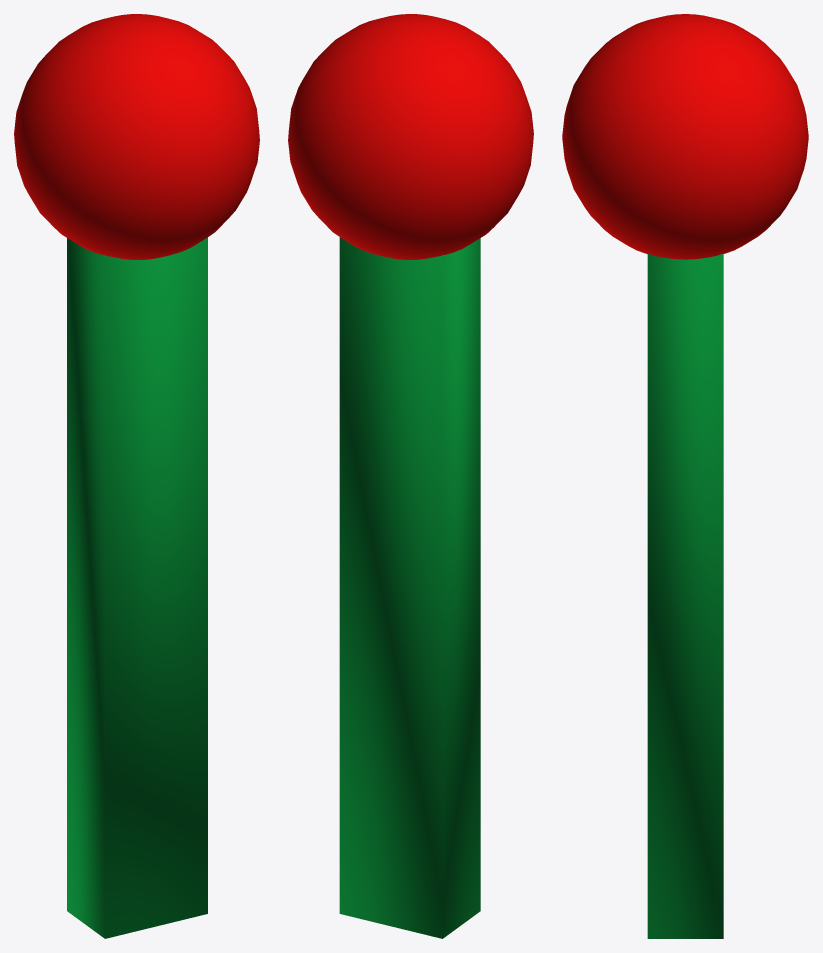
The model's file is LeverTrigger.fbx.
The picture shows the model from 3 angles, left to right: view 1: azimuth 30°, elevation 25°; view 2: azimuth 150°, elevation 25°; view 3: azimuth 270°, elevation 25°; orthographic projection.
Visible parts, largest first — view 1: Trigger, Sphere; view 2: Trigger, Sphere; view 3: Trigger, Sphere.
Boxes of the visible parts, x1,y1,x2,y2 form: Trigger: [67, 237, 207, 938]; Sphere: [14, 14, 259, 259]; Trigger: [339, 237, 480, 938]; Sphere: [288, 14, 533, 259]; Trigger: [647, 253, 723, 938]; Sphere: [562, 14, 808, 259].
Size of the model in its own units: 27.61 by 110 by 27.61.
